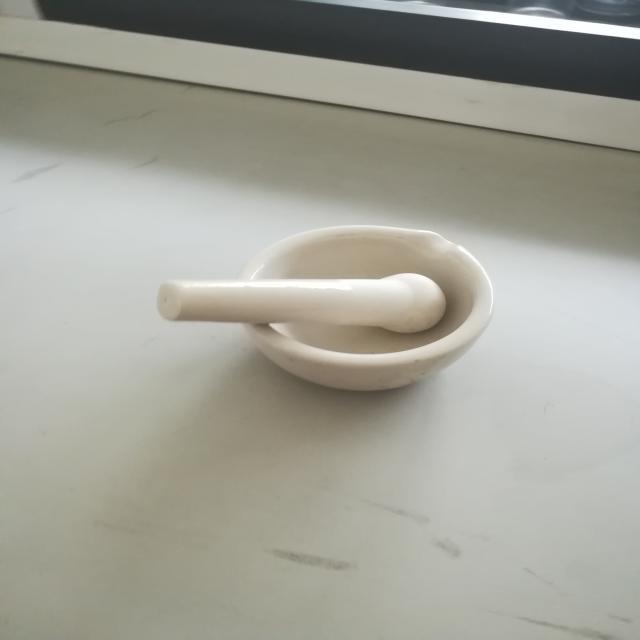Porcelain_Mortar Pestle: (110, 165, 566, 443)
